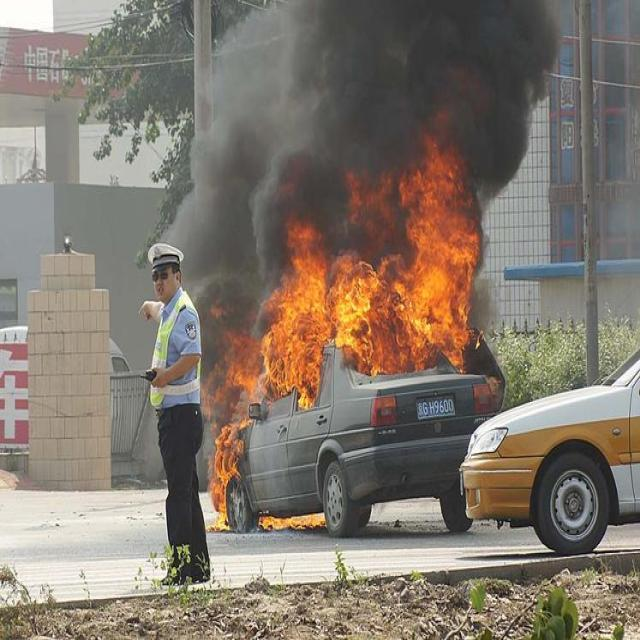Fire: (336, 146, 478, 367), (260, 224, 331, 406), (216, 326, 260, 392), (212, 424, 244, 484), (259, 511, 324, 535), (207, 484, 226, 530)
Smoke: (160, 0, 350, 245), (352, 0, 551, 143), (480, 146, 528, 207)
